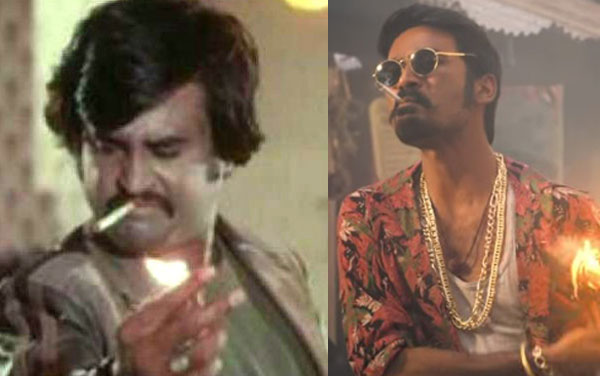cigarette: (94, 199, 139, 236), (377, 80, 407, 107)
